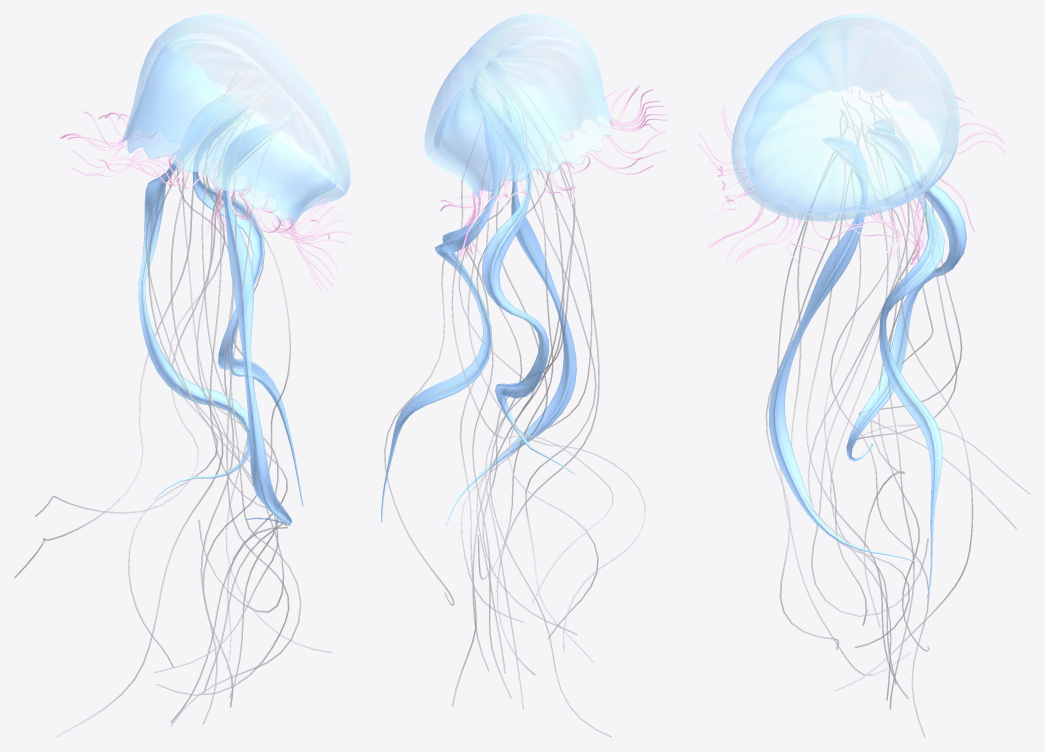
The model's file is jelfish_alembic.gltf.
3 views of the same model, side by side, from view 1: azimuth 30°, elevation 25°; view 2: azimuth 150°, elevation 25°; view 3: azimuth 270°, elevation 25° (orthographic). The views are drawn at different scales.
Visible parts, largest first — view 1: Connect, Hair.1, TENT, EDGE; view 2: Connect, Hair.1, TENT, EDGE; view 3: Connect, TENT, Hair.1, EDGE.
Boxes of the visible parts, x1,y1,x2,y2 form: Connect: (121,14,350,226); Hair.1: (14,59,331,737); TENT: (138,82,303,525); EDGE: (60,111,352,292); Connect: (424,14,612,197); Hair.1: (384,59,645,737); TENT: (381,82,576,525); EDGE: (440,86,668,257); Connect: (731,14,959,221); TENT: (769,117,966,598); Hair.1: (765,91,1029,737); EDGE: (697,54,1006,265).
Bounding box in the file's own units: 190 × 497 × 216.
